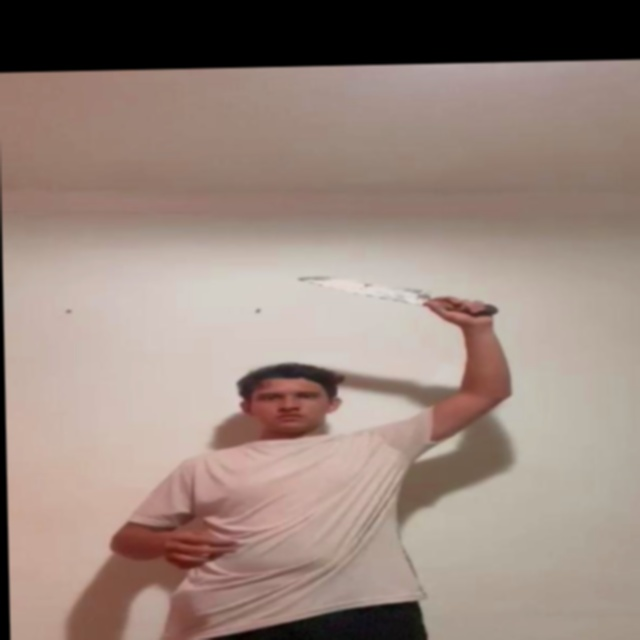Sharp-Object: (300, 273, 426, 303)
